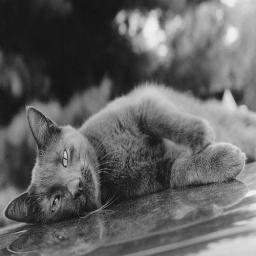catnose: (69, 178, 86, 204)
